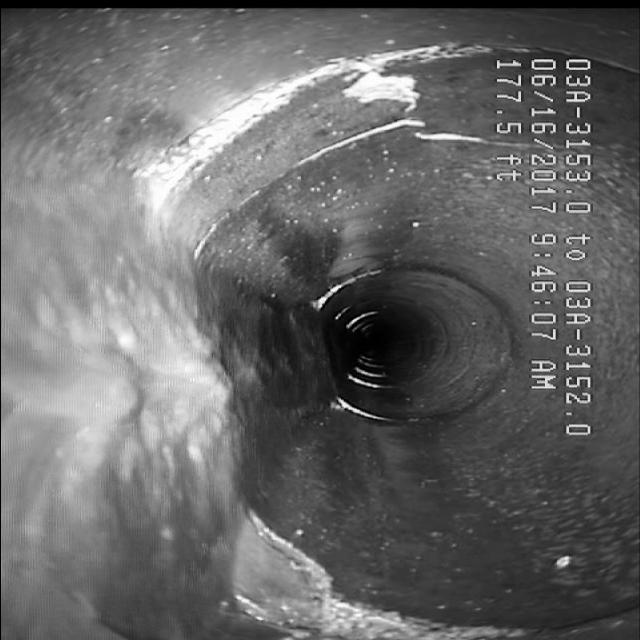Crack: (278, 85, 471, 181)
